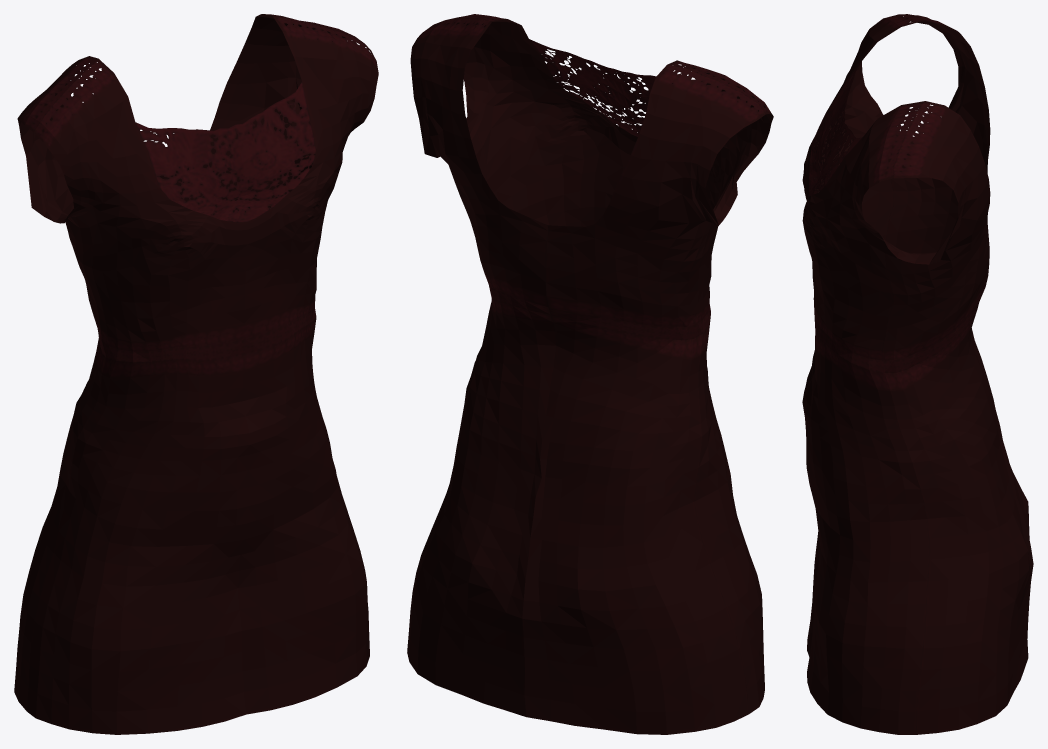
Rendered from mhw_mindfront_f_dress_01.glb.
3 renders of one model, left to right at view 1: azimuth 30°, elevation 25°; view 2: azimuth 150°, elevation 25°; view 3: azimuth 270°, elevation 25°, orthographic. The views are drawn at different scales.
Visible parts, largest first — view 1: mhw_mindfront_f_dress_01; view 2: mhw_mindfront_f_dress_01; view 3: mhw_mindfront_f_dress_01.
Part boxes in pixels (x1=…): mhw_mindfront_f_dress_01: x1=14, y1=14, x2=378, y2=734; mhw_mindfront_f_dress_01: x1=407, y1=14, x2=773, y2=734; mhw_mindfront_f_dress_01: x1=802, y1=14, x2=1033, y2=734.
Size of the model in its own units: 0.5062 by 0.9073 by 0.3164.
1 material, 1 textured.
